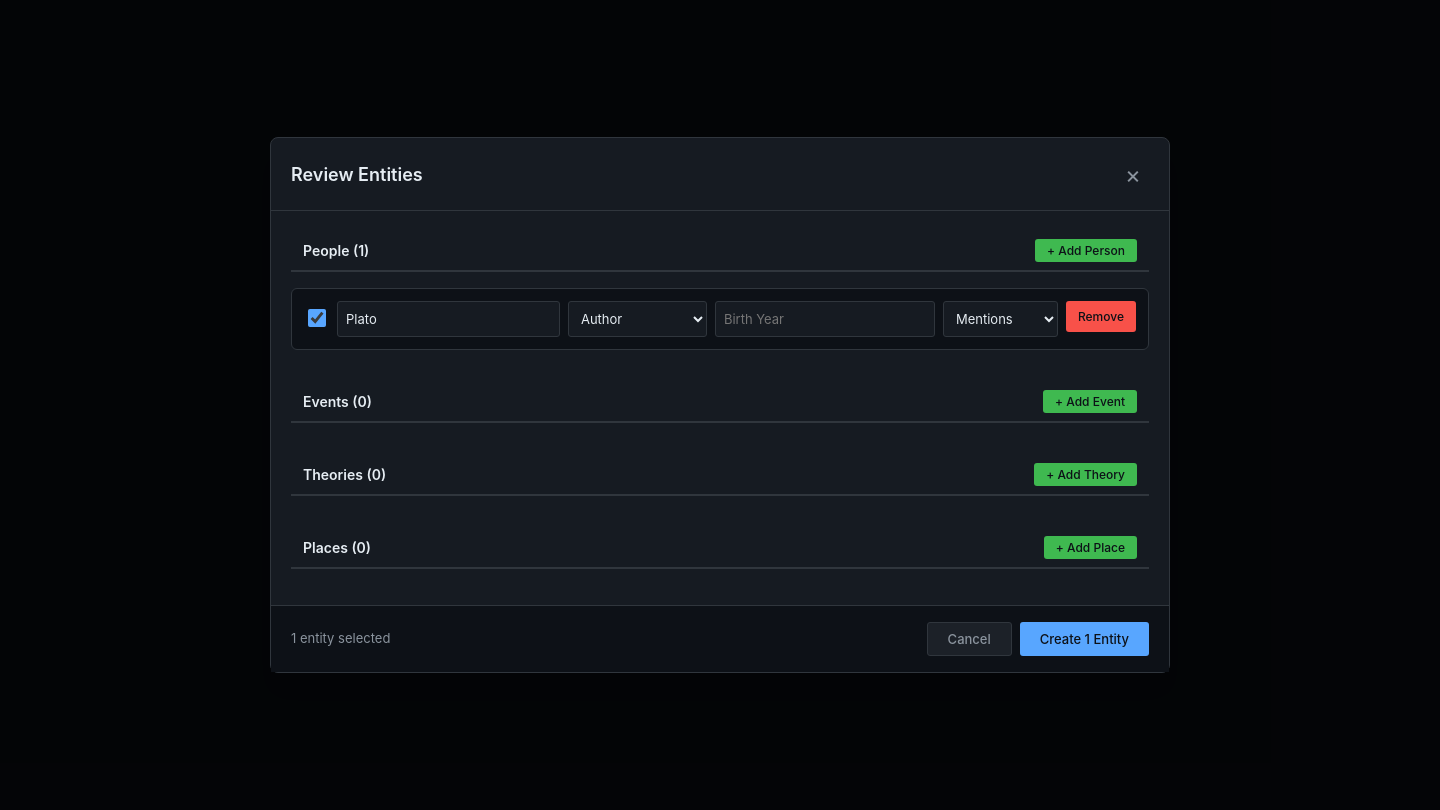
Test: EntityReview › Creating Entities › should handle creation errors
This screenshot has width=1440, height=810.
Click the button "Create 1 Entity".
click(1084, 639)  # box 1020,622 -> 1149,656
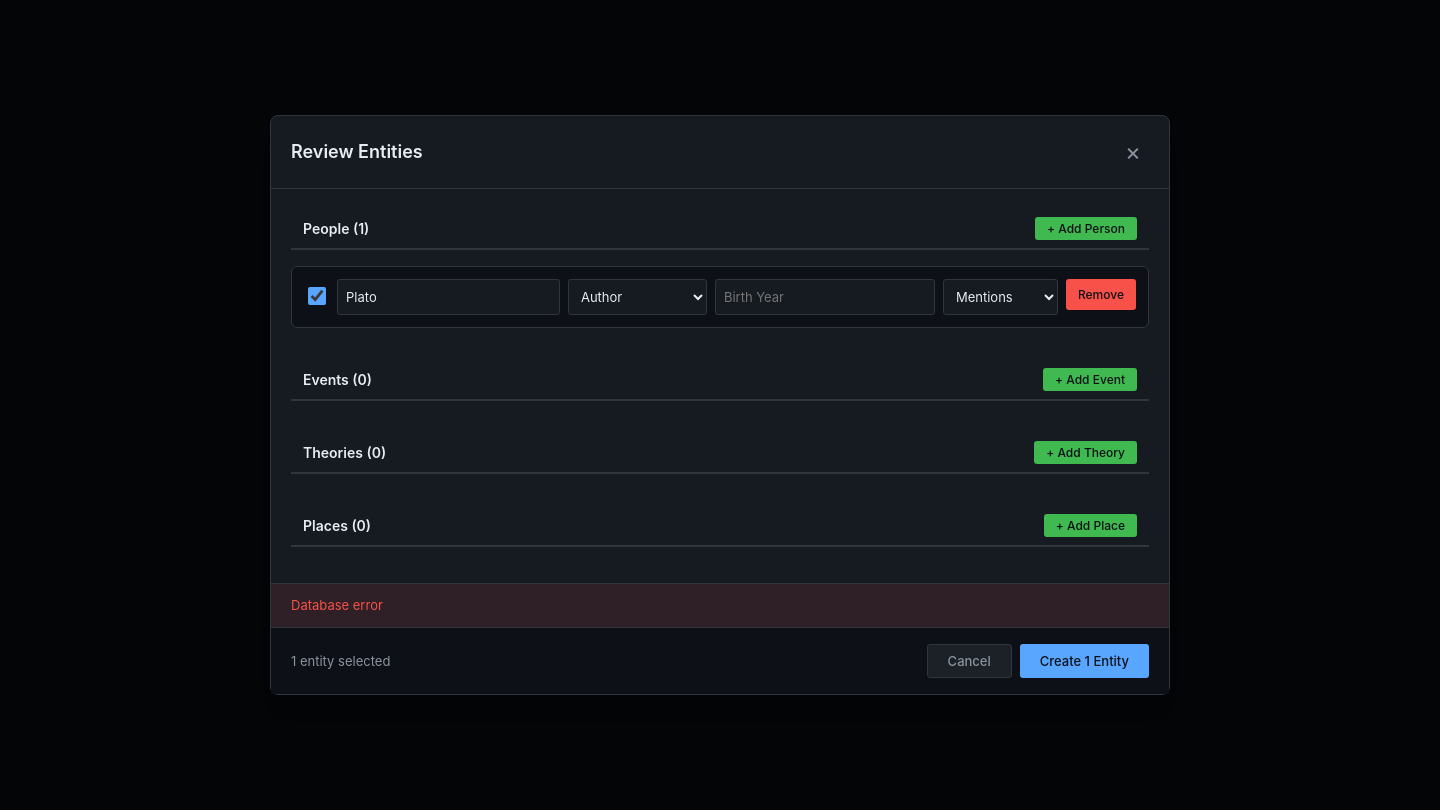
Expected: the text "Database error" is shown, 271,583 -> 1169,627
